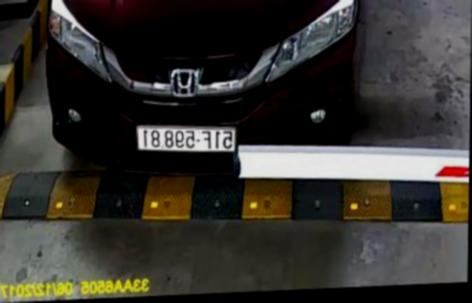License_Plate: (134, 122, 239, 155)
